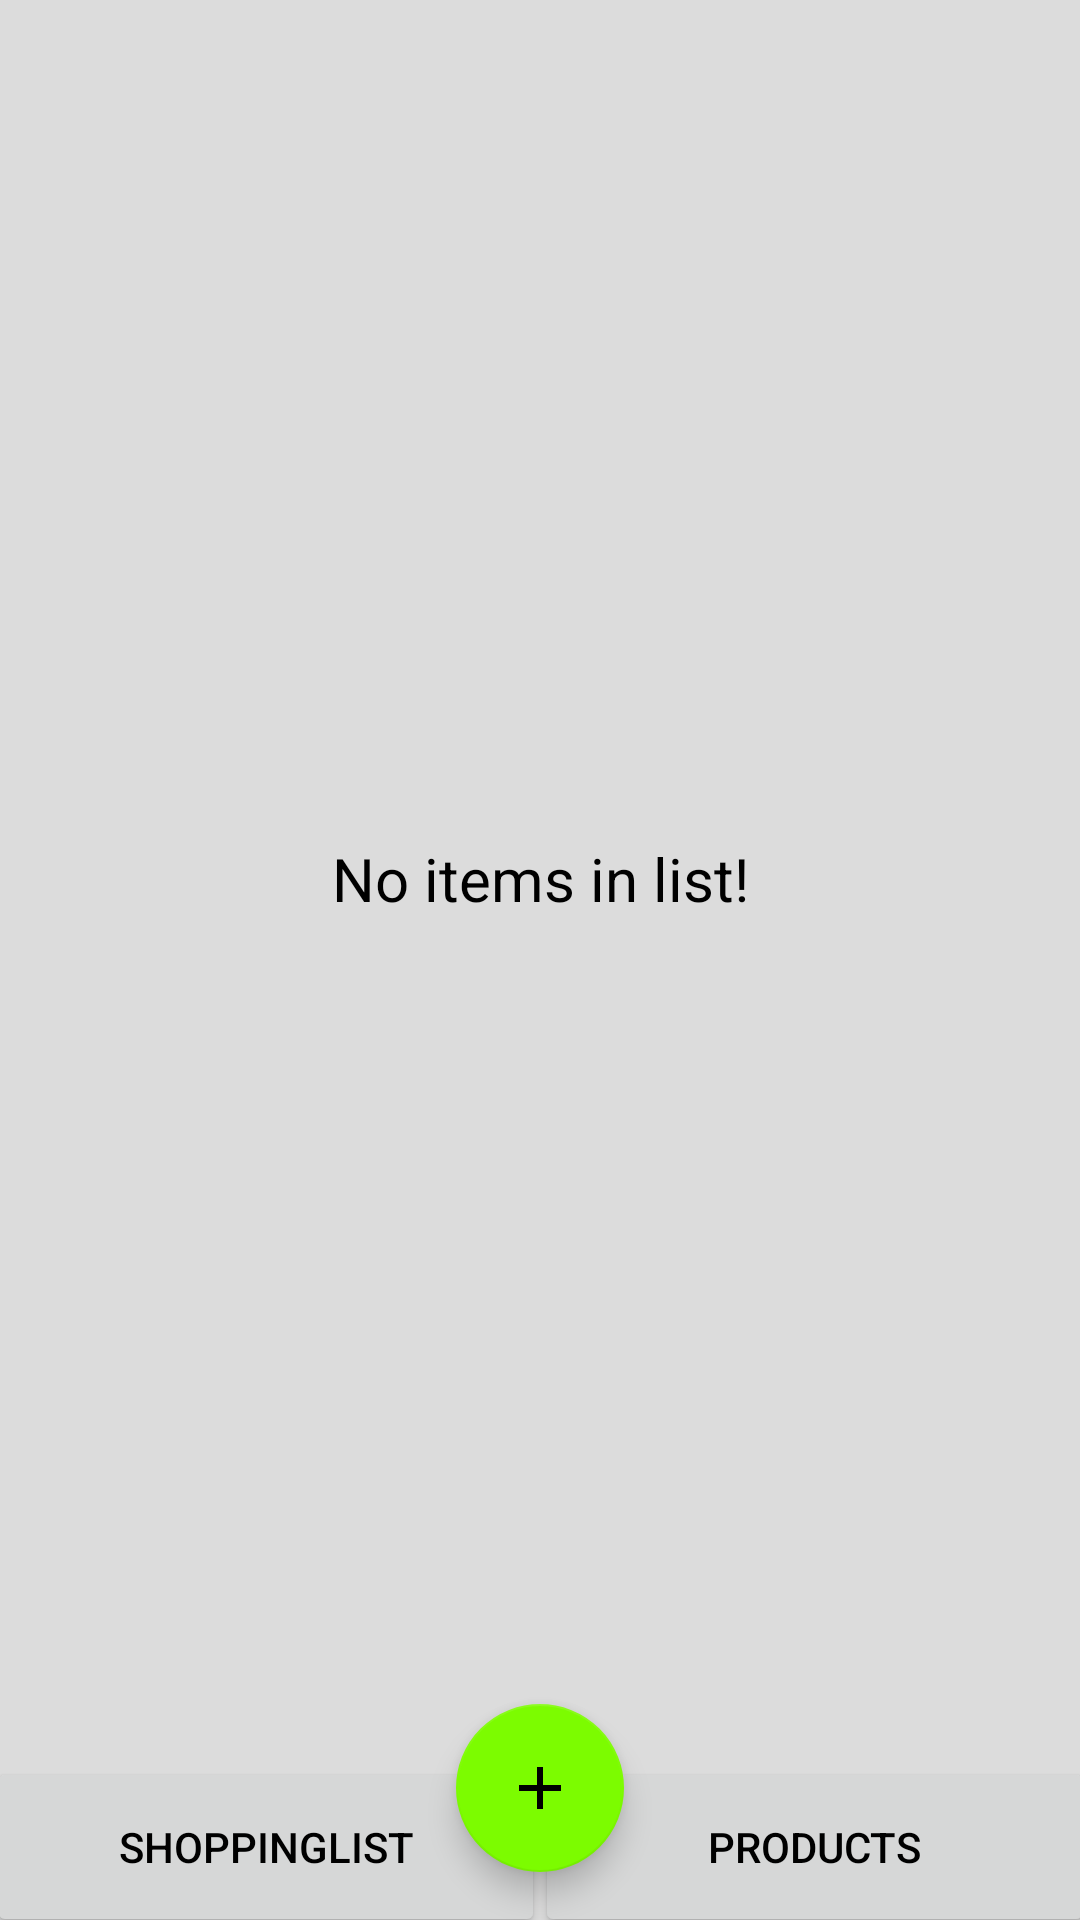

Where icons sit on this 1080px x 1920px app screen, as (x1, y1, x2, y2):
add: (456, 1704, 624, 1872)
